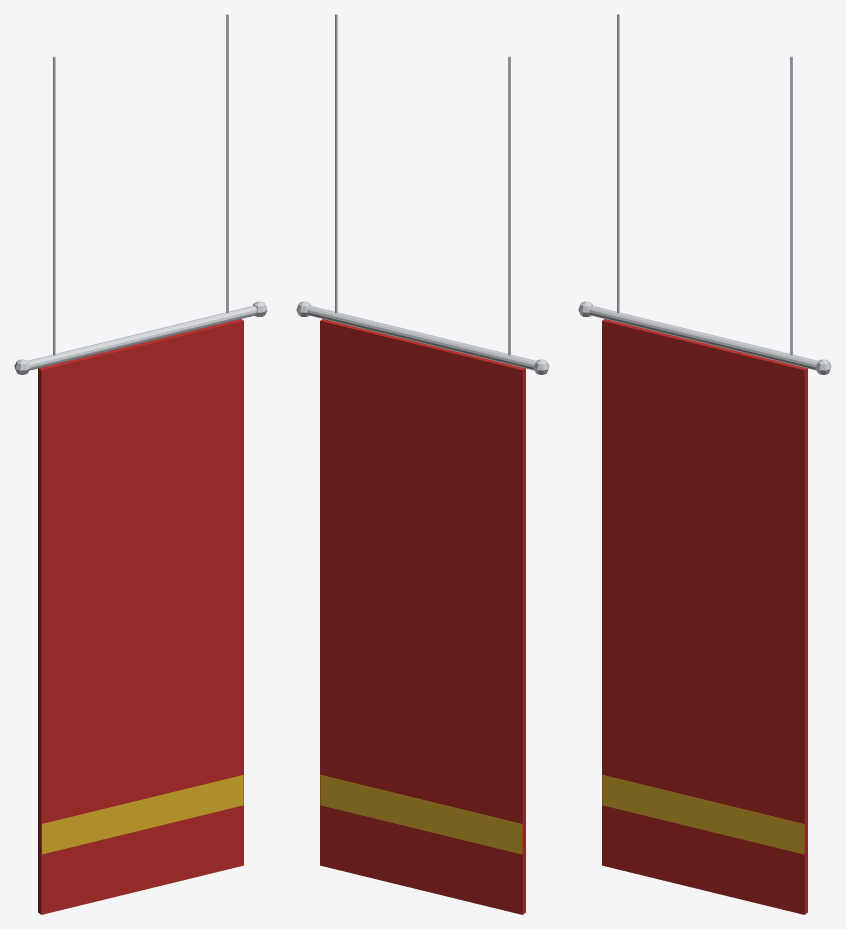
File: banner.glb
3 views of the same model, side by side, from view 1: azimuth 30°, elevation 25°; view 2: azimuth 150°, elevation 25°; view 3: azimuth 330°, elevation 25° (orthographic).
Visible parts, largest first — view 1: banner_red, sign_yellow, chrome; view 2: banner_red, sign_yellow, chrome; view 3: banner_red, sign_yellow, chrome.
Boxes of the visible parts, x1,y1,x2,y2 form: banner_red: (38, 319, 243, 914); sign_yellow: (41, 775, 243, 854); chrome: (14, 14, 267, 374); banner_red: (320, 319, 525, 914); sign_yellow: (320, 775, 522, 854); chrome: (296, 14, 549, 374); banner_red: (602, 319, 807, 914); sign_yellow: (602, 775, 804, 854); chrome: (578, 14, 831, 374).
Size of the model in its own units: 0.87 by 2.82 by 0.05.
